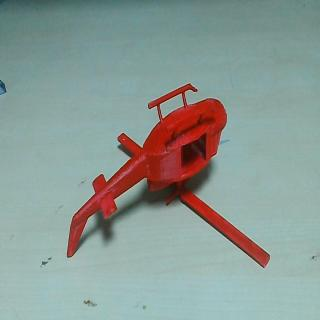Helicopter: (66, 81, 271, 270)
